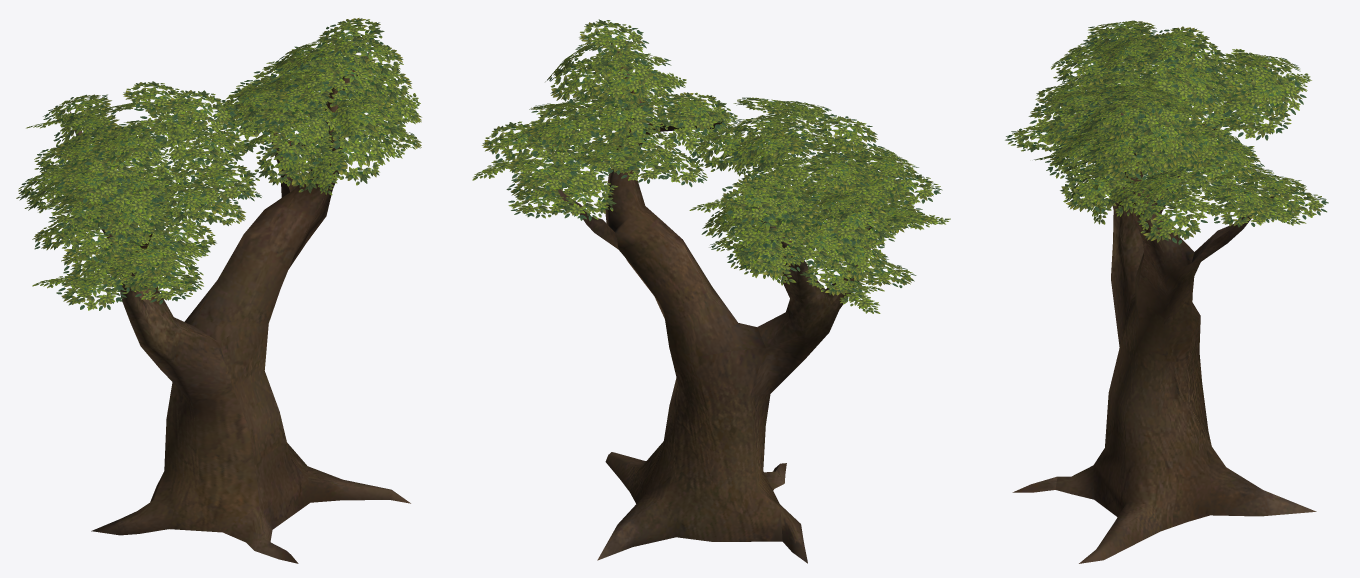
File: SC_SLtree05.FBX
3 views of the same model, side by side, from view 1: azimuth 30°, elevation 25°; view 2: azimuth 150°, elevation 25°; view 3: azimuth 270°, elevation 25° (orthographic). The views are drawn at different scales.
Visible parts, largest first — view 1: SC_SLtree05; view 2: SC_SLtree05; view 3: SC_SLtree05.
Boxes of the visible parts, x1,y1,x2,y2 form: SC_SLtree05: (16, 18, 421, 563); SC_SLtree05: (472, 19, 950, 563); SC_SLtree05: (1005, 20, 1328, 563).
Size of the model in its own units: 990 by 1046 by 724.
